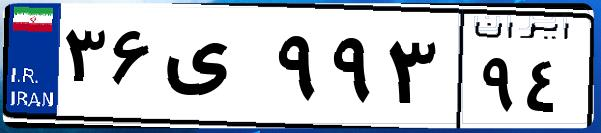3: (385, 28, 445, 110), (57, 26, 110, 100)
4: (525, 38, 570, 115)
6: (110, 28, 158, 98)
9: (270, 28, 330, 110), (330, 28, 385, 110), (475, 38, 525, 113)
ی: (158, 20, 270, 120)
